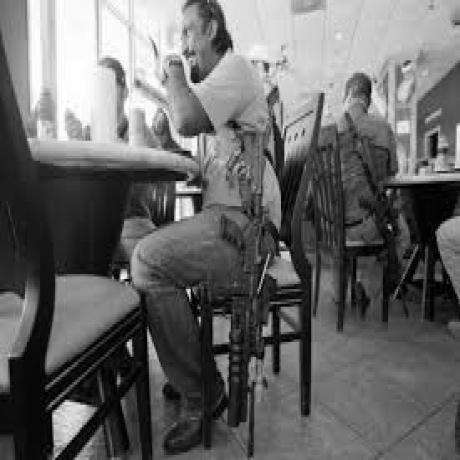Guns: (221, 117, 263, 441), (358, 135, 407, 308)
